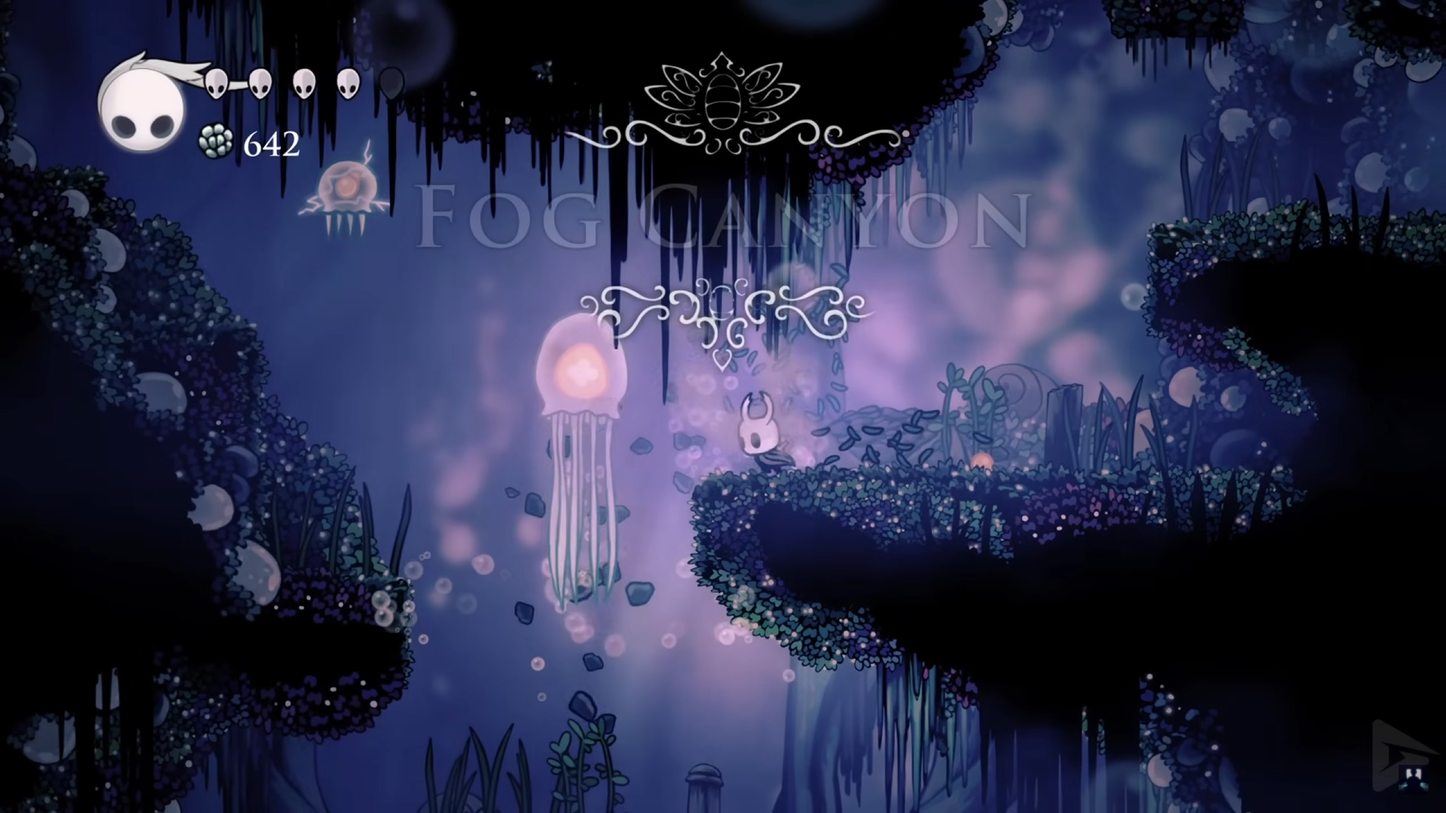HK: (733, 390, 787, 473)
